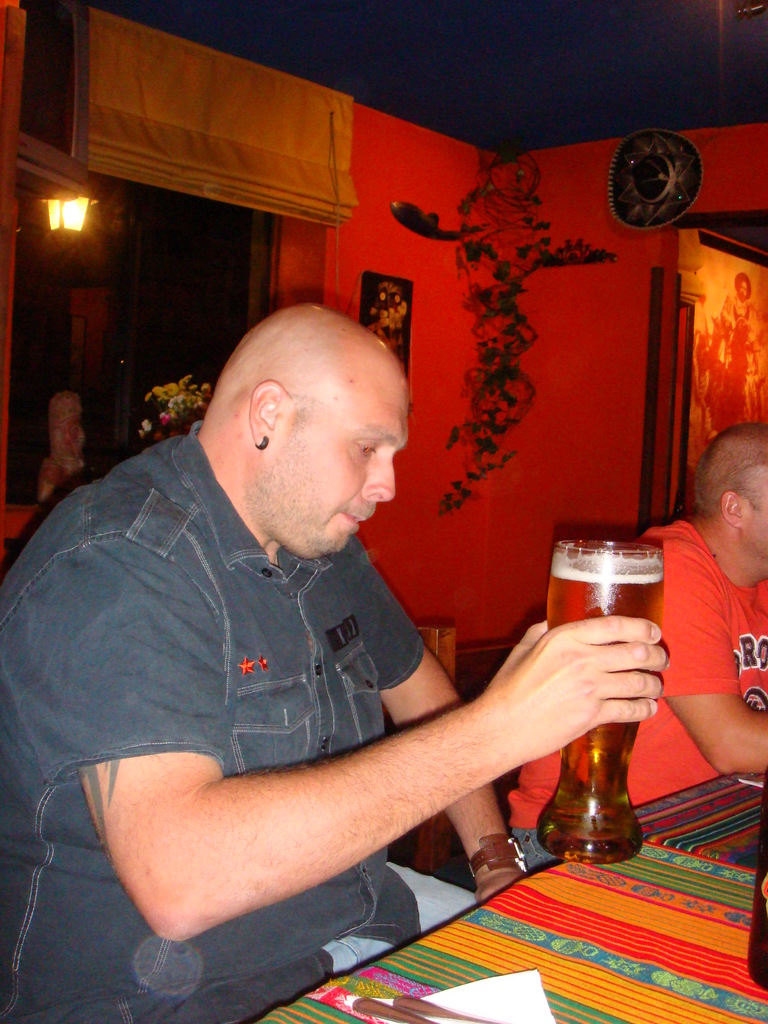Beer: (526, 556, 673, 842)
